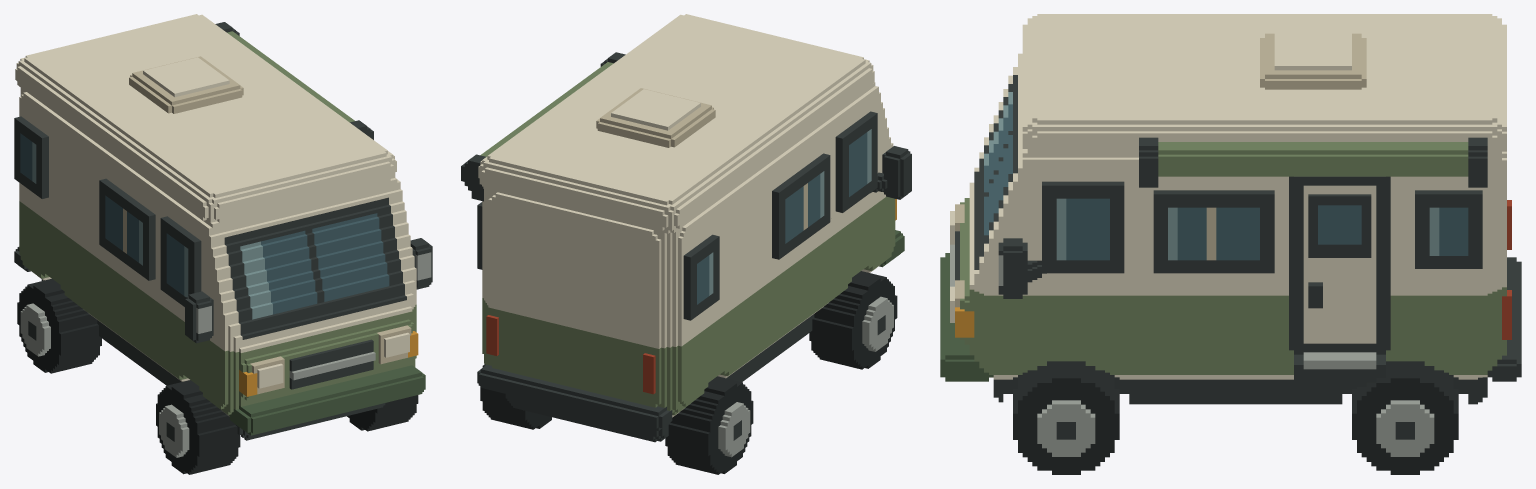
The model's file is camper_van.glb.
3 renders of one model, left to right at view 1: azimuth 30°, elevation 25°; view 2: azimuth 150°, elevation 25°; view 3: azimuth 270°, elevation 25°, orthographic. The views are drawn at different scales.
Parts seen in each view (by area): view 1: camper_van; view 2: camper_van; view 3: camper_van.
Boxes of the visible parts, box(x1,y1,x2,y2) form: camper_van: box(14, 14, 432, 474); camper_van: box(461, 14, 911, 474); camper_van: box(940, 14, 1521, 474).
Bounding box in the file's own units: 3.5 × 4.1 × 6.
